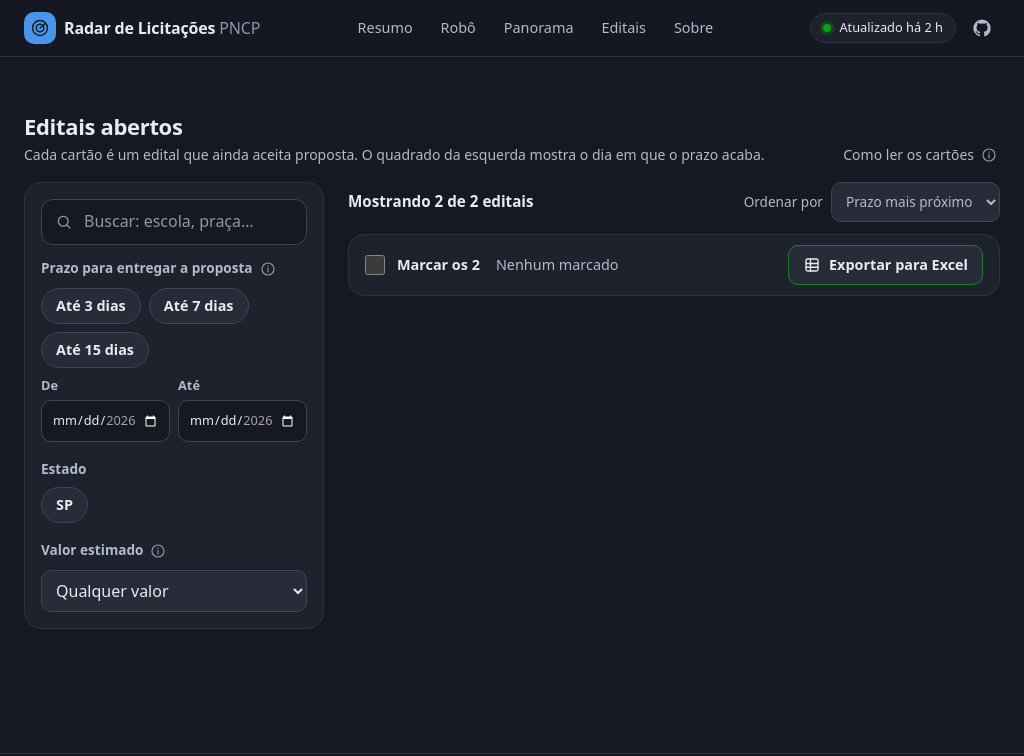
Test: App › atalho e 'limpar filtros' mudam as datas mesmo depois de a pessoa ter digitado
(page scrolled)
Type "0020-10-29" into the date field labelled "Até" at point(242, 421), box [178,400,307,442]
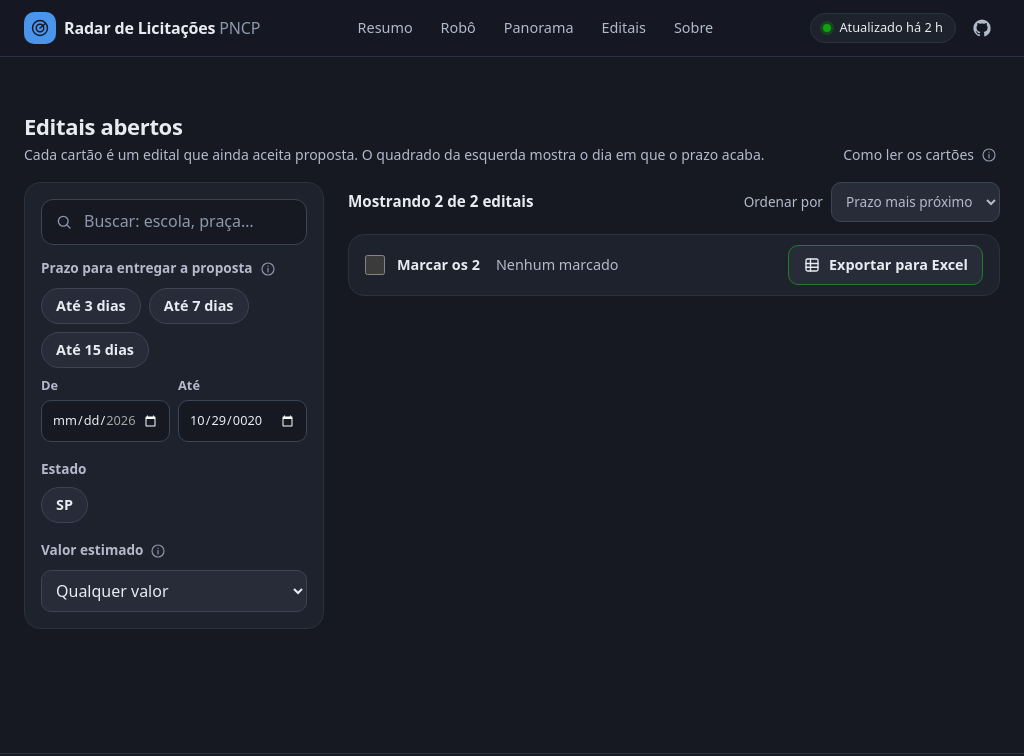
Click the button "Até 7 dias" at point(199, 306), box [149,288,249,324]
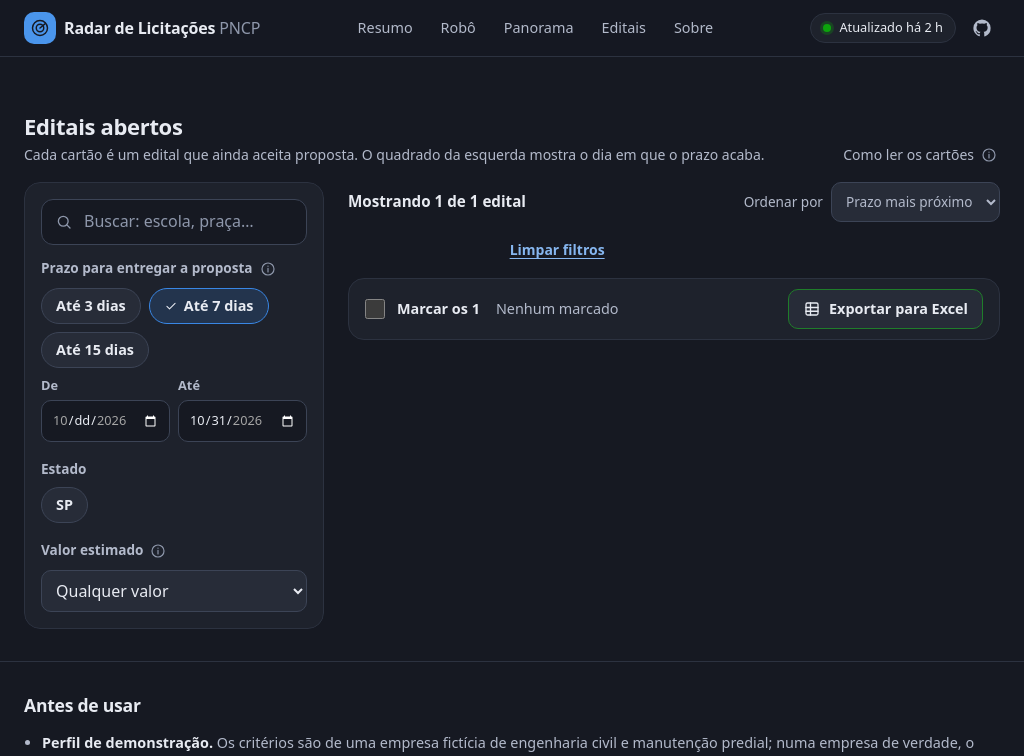
Click the button "Limpar filtros" at point(557, 250), box [506,234,609,266]
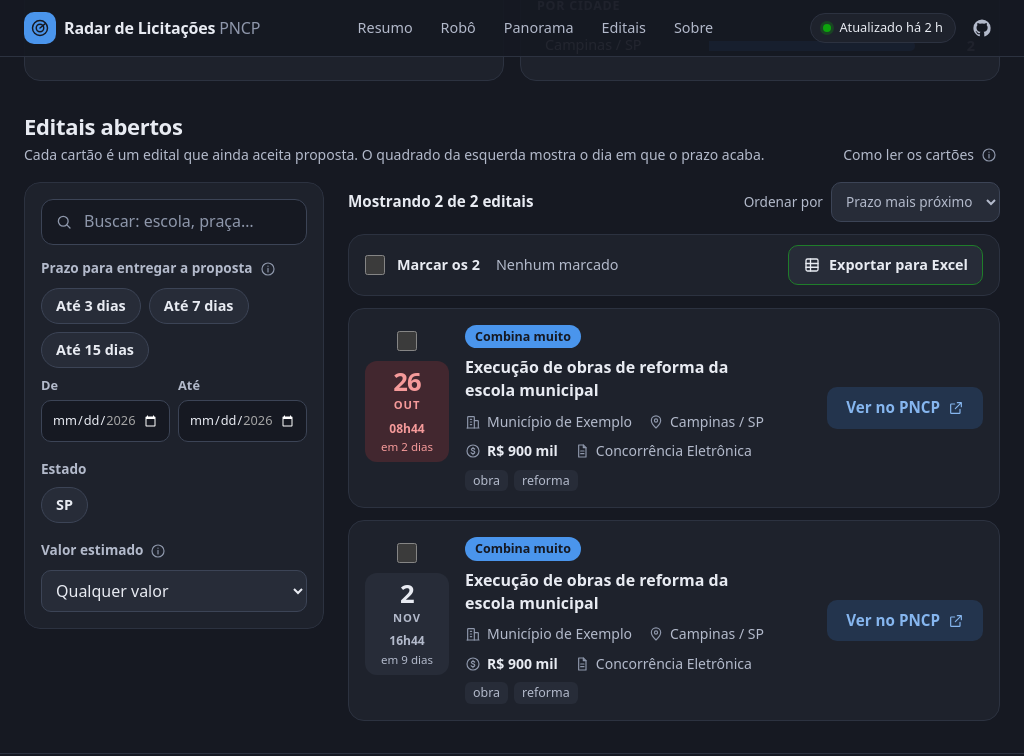
Now the date field labelled "Até" is empty, box [178,400,307,442]
